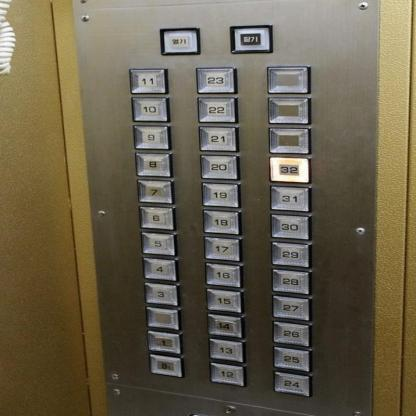1: (146, 329, 182, 356)
10: (130, 96, 170, 122)
11: (128, 68, 166, 93)
12: (209, 362, 243, 388)
13: (208, 338, 244, 364)
14: (208, 311, 242, 338)
15: (204, 288, 242, 313)
16: (204, 260, 239, 288)
17: (203, 236, 240, 263)
18: (200, 209, 238, 235)
19: (200, 181, 239, 207)
20: (201, 155, 238, 178)
21: (198, 126, 239, 152)
22: (196, 96, 237, 123)
23: (195, 66, 239, 94)
24: (274, 370, 310, 396)
25: (272, 342, 310, 372)
26: (271, 319, 310, 347)
27: (272, 293, 309, 322)
28: (272, 267, 309, 296)
29: (269, 240, 311, 270)
3: (143, 280, 178, 307)
30: (270, 212, 314, 242)
31: (268, 183, 313, 216)
32: (268, 155, 311, 185)
4: (140, 256, 176, 281)
5: (140, 230, 176, 256)
6: (138, 204, 176, 228)
7: (137, 177, 173, 205)
8: (133, 152, 173, 178)
9: (131, 124, 173, 150)
B1: (146, 350, 182, 378)
empty: (265, 65, 312, 95), (267, 124, 312, 155), (264, 96, 310, 126), (145, 306, 181, 332)
text: (228, 24, 272, 54), (157, 27, 202, 56)
